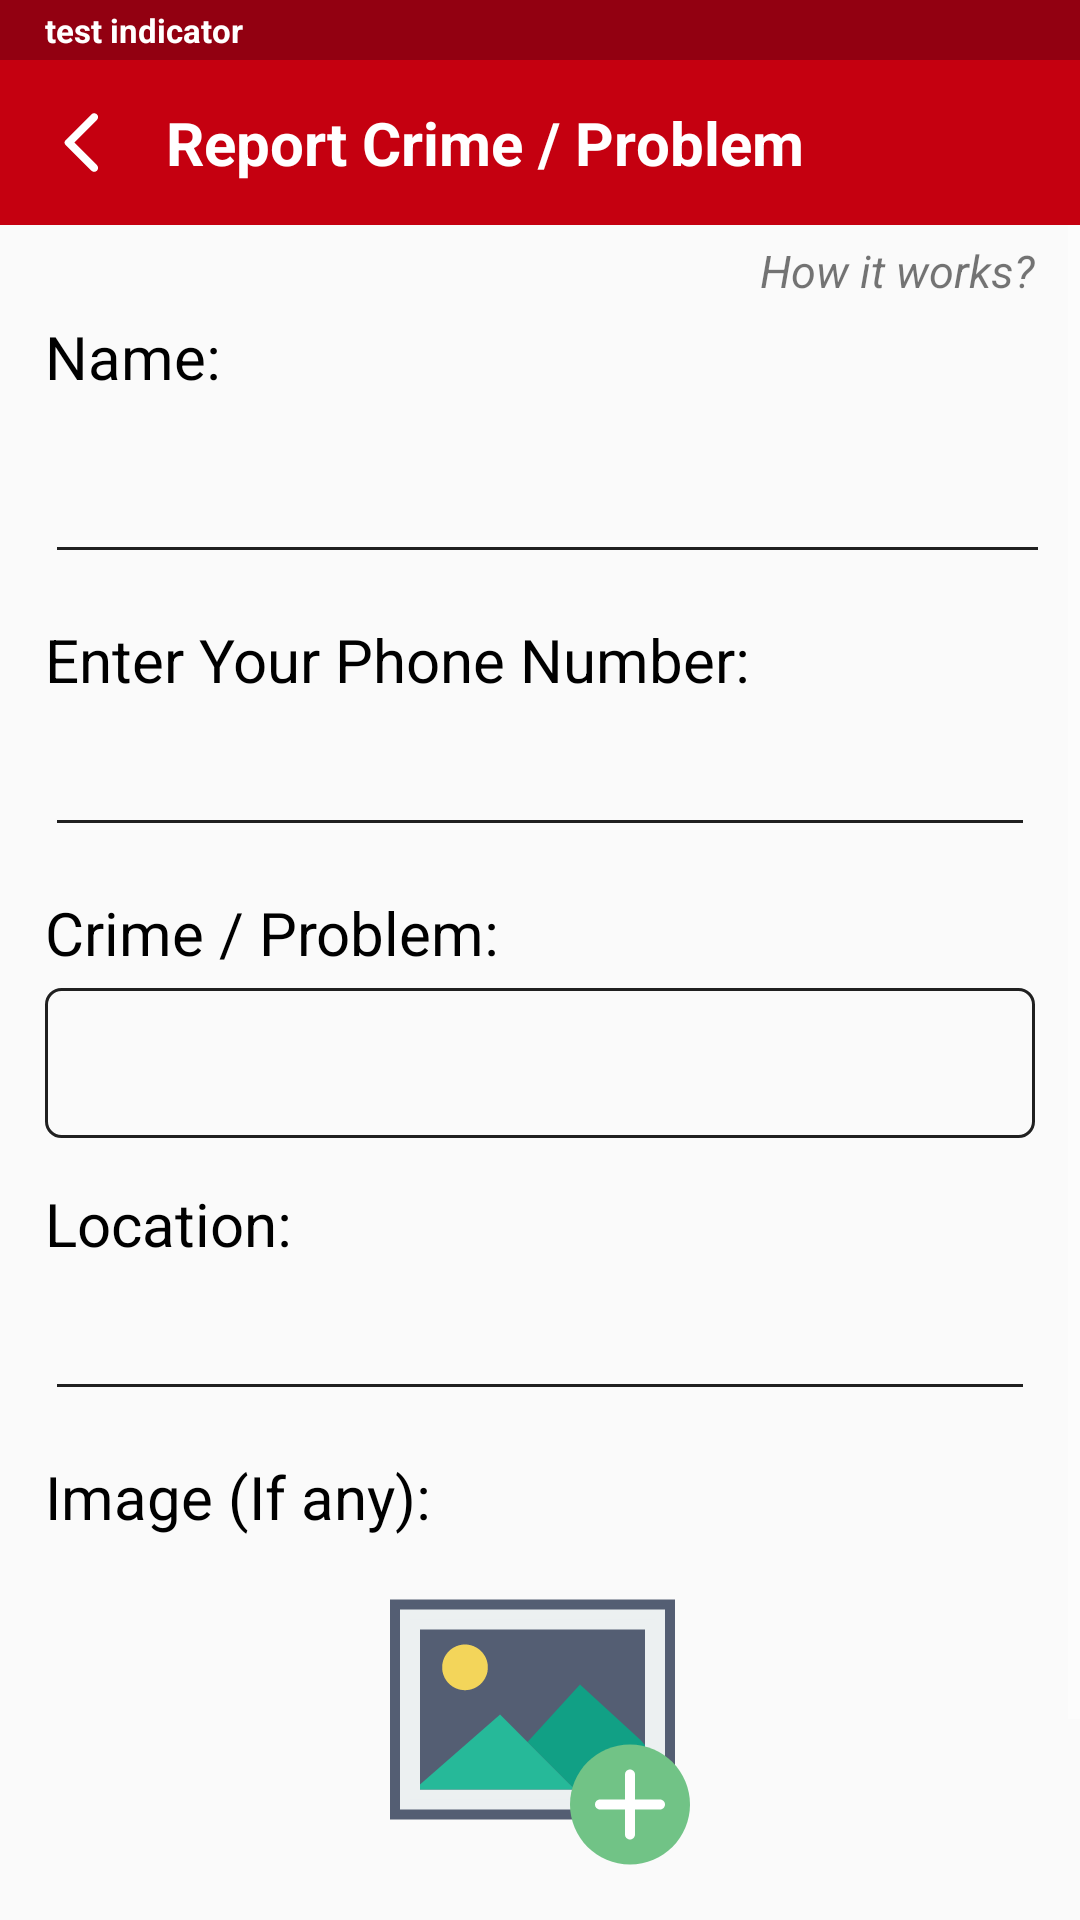

Locate icon controls on the screen. Image size 1080px×1920px, boxes as {"x1": x1, "y1": y1, "x2": x2, "y2": y2}.
add: {"x1": 390, "y1": 1599, "x2": 690, "y2": 1865}
back: {"x1": 64, "y1": 113, "x2": 98, "y2": 172}
